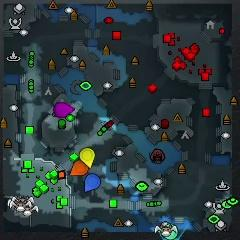p1: (83, 173, 101, 193)
p2: (161, 222, 178, 240)
p3: (54, 102, 75, 118)
p4: (79, 147, 96, 169)
p5: (68, 159, 90, 176)
